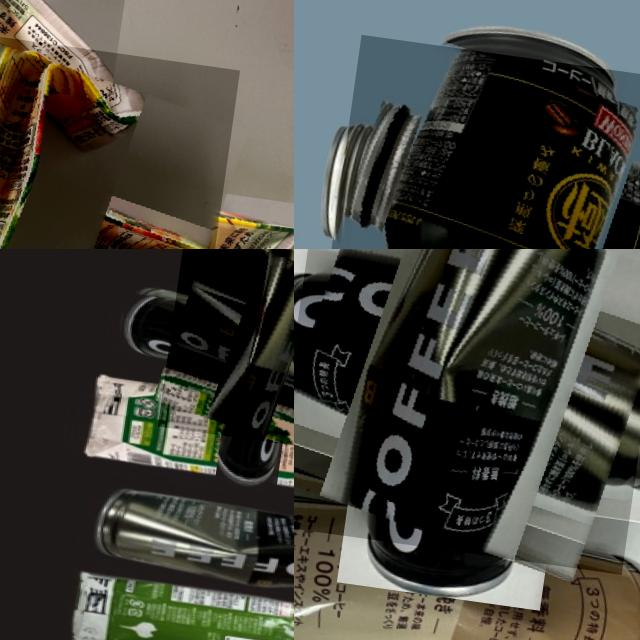Aluminium Foil: (0, 12, 239, 249), (75, 362, 294, 503), (64, 568, 294, 640)
Can: (294, 249, 640, 574), (315, 34, 640, 249), (294, 481, 640, 640), (156, 249, 294, 453), (95, 488, 294, 600)
